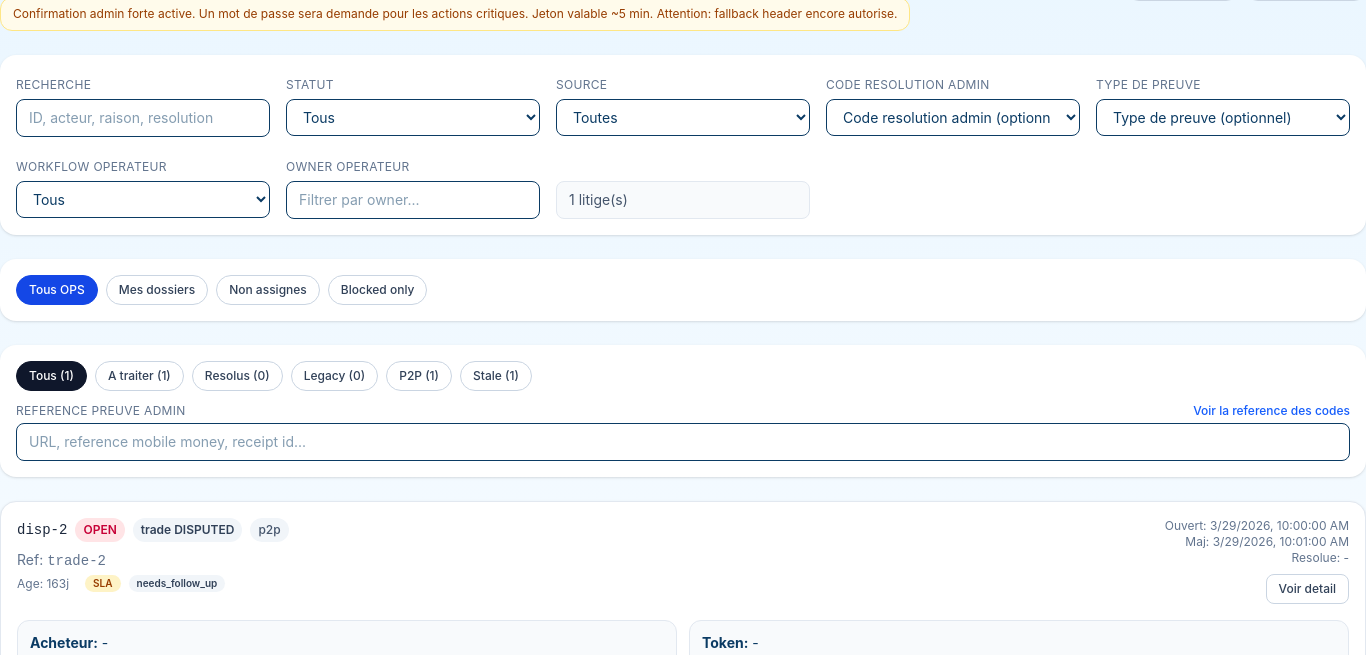
Test case: P2PAdminDisputes › loads dispute detail timeline
Check: the text "disp-2" is shown, box [17, 520, 67, 540]
Click the button "Voir detail" at (1307, 589), box [1266, 574, 1349, 604]
(page scrolled)
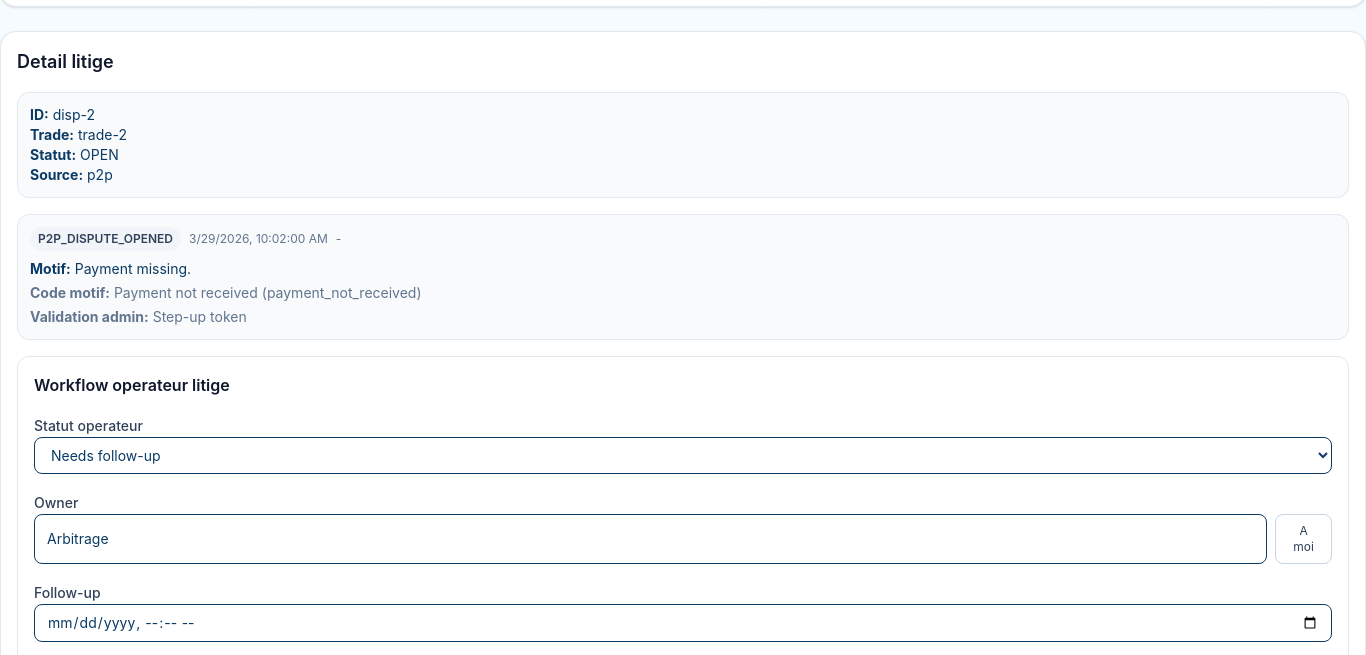
Check: the text "P2P_DISPUTE_OPENED" is shown, box [30, 227, 181, 251]
Check: the text "Code motif: Payment not received (payment_not_received)" is shown, box [30, 284, 422, 301]
Check: the text "Validation admin: Step-up token" is shown, box [30, 308, 247, 325]
